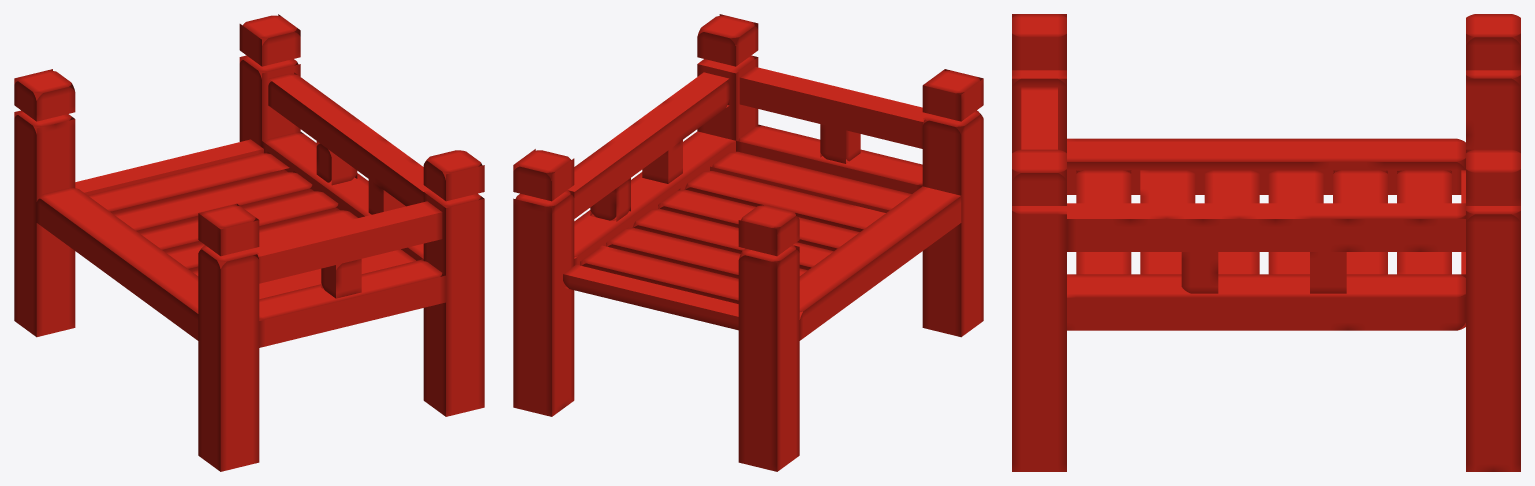
Rendered from bridge_end_3.obj.
The picture shows the model from 3 angles, left to right: view 1: azimuth 30°, elevation 25°; view 2: azimuth 150°, elevation 25°; view 3: azimuth 270°, elevation 25°; orthographic projection. The views are drawn at different scales.
Visible parts, largest first — view 1: cube; view 2: cube; view 3: cube.
Part boxes in pixels (x1,y1,x2,y2): cube: [14, 14, 484, 471]; cube: [513, 14, 983, 471]; cube: [1012, 14, 1520, 471].
Bounding box in the file's own units: 0.6406 × 0.5625 × 0.8672.
1 material, 1 textured.
